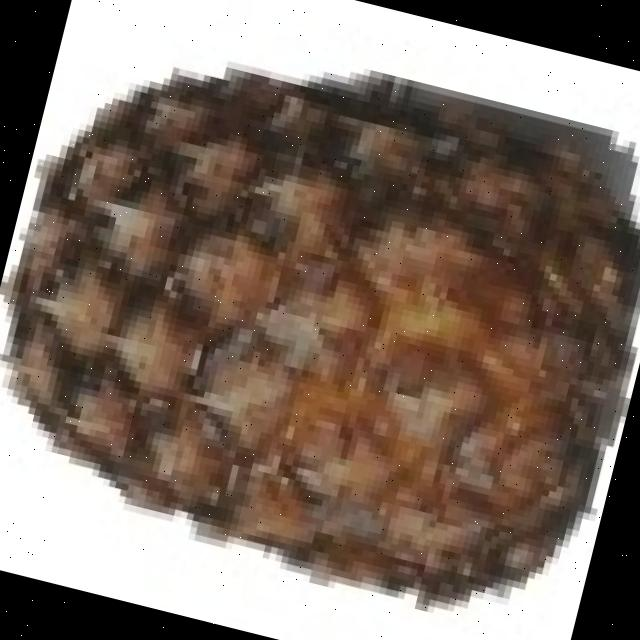pineapple: (0, 86, 629, 610)
